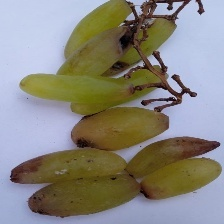grapes: (35, 54, 178, 195)
